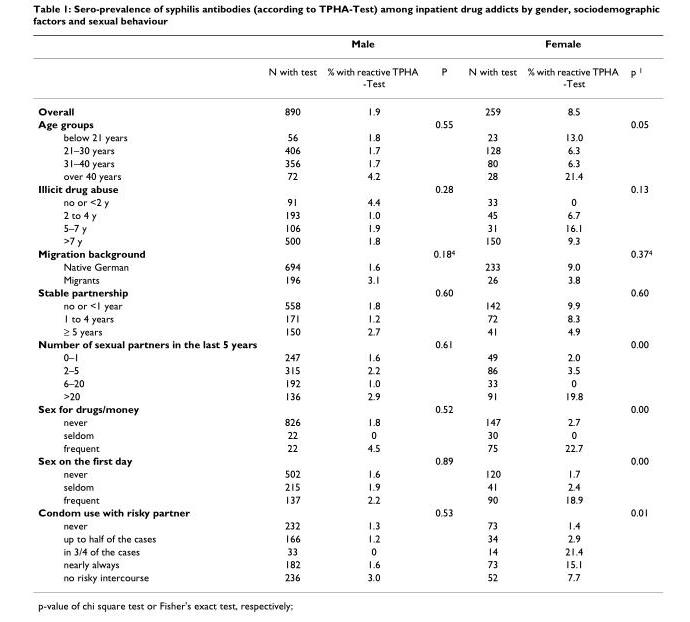table: (37, 36, 651, 582)
table column: (37, 36, 261, 582), (321, 36, 425, 582), (521, 36, 623, 582), (261, 36, 321, 582), (461, 36, 521, 582), (425, 36, 461, 582), (623, 36, 651, 582)
table column header: (37, 36, 651, 96)
table row: (37, 57, 651, 96), (37, 36, 651, 57), (37, 96, 651, 117), (37, 323, 651, 337), (37, 117, 651, 130), (37, 130, 651, 143), (37, 143, 651, 156), (37, 156, 651, 169), (37, 181, 651, 194), (37, 194, 651, 207), (37, 207, 651, 220), (37, 220, 651, 233), (37, 233, 651, 246), (37, 246, 651, 259), (37, 259, 651, 272), (37, 272, 651, 285), (37, 285, 651, 298), (37, 298, 651, 311), (37, 337, 651, 350), (37, 350, 651, 363), (37, 363, 651, 376), (37, 376, 651, 389), (37, 401, 651, 414), (37, 414, 651, 427), (37, 427, 651, 440), (37, 440, 651, 453), (37, 453, 651, 466), (37, 466, 651, 479), (37, 479, 651, 492), (37, 492, 651, 505), (37, 505, 651, 518), (37, 518, 651, 531), (37, 531, 651, 544), (37, 544, 651, 557), (37, 557, 651, 570), (37, 169, 651, 181), (37, 311, 651, 323), (37, 389, 651, 401), (37, 570, 651, 582)
table spanning cell: (261, 36, 461, 57), (461, 36, 651, 57)
